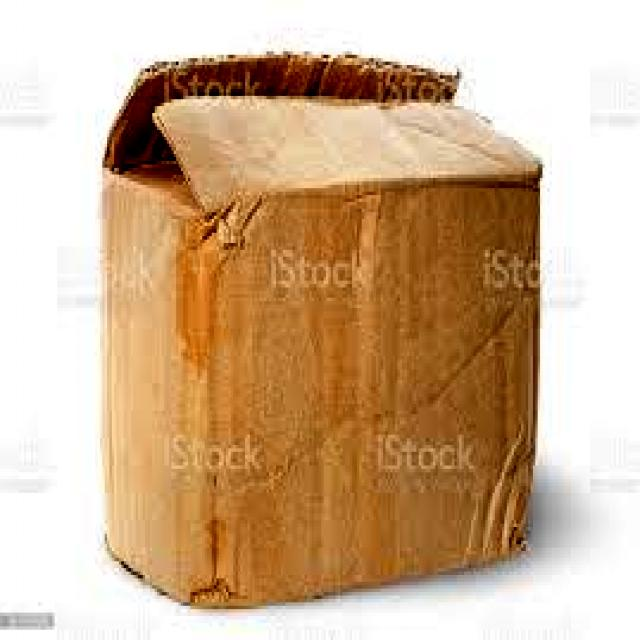Cardboard: (96, 46, 549, 606)
